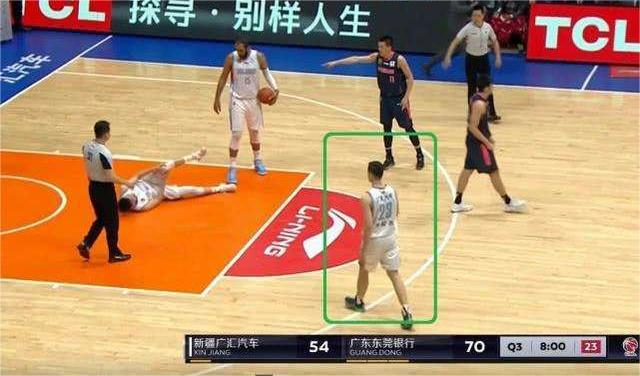down: (115, 142, 234, 216)
up: (323, 31, 431, 172), (340, 154, 416, 329), (447, 76, 529, 215), (209, 34, 277, 189), (74, 119, 135, 267), (444, 3, 513, 127)
